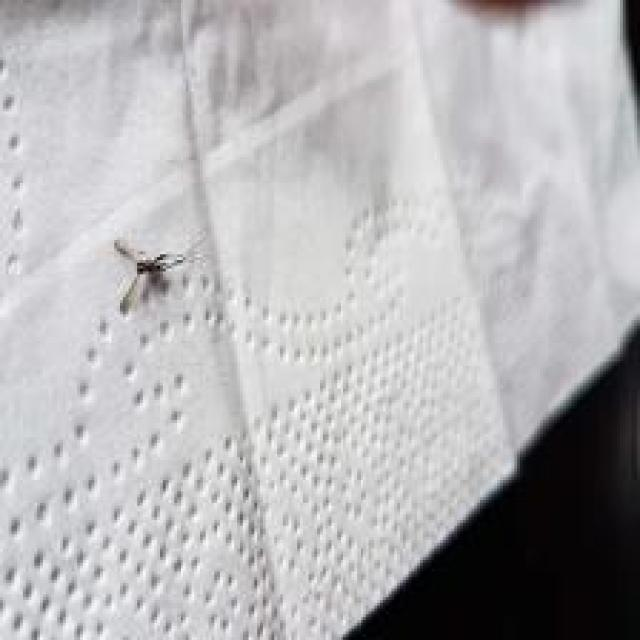Aedes albopictus: (111, 236, 186, 316)
